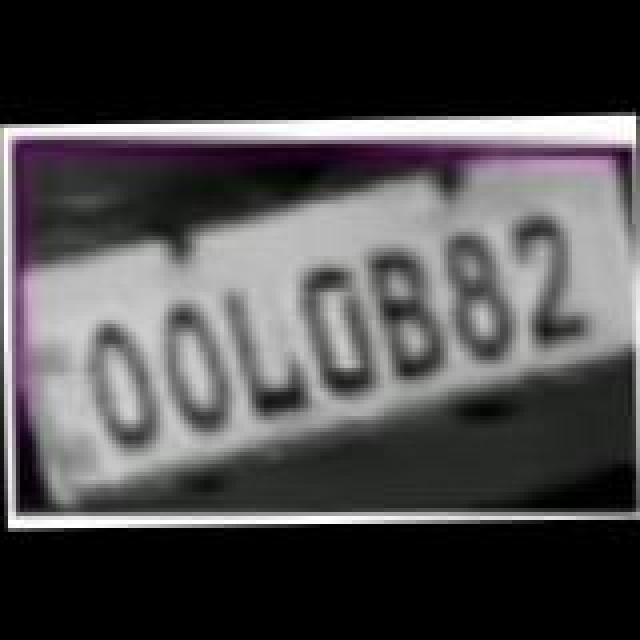2: (506, 208, 594, 344)
8: (442, 228, 522, 360)
B: (364, 246, 448, 382)
D: (298, 262, 386, 394)
L: (220, 280, 312, 416)
O: (152, 298, 236, 434), (82, 316, 166, 452)
